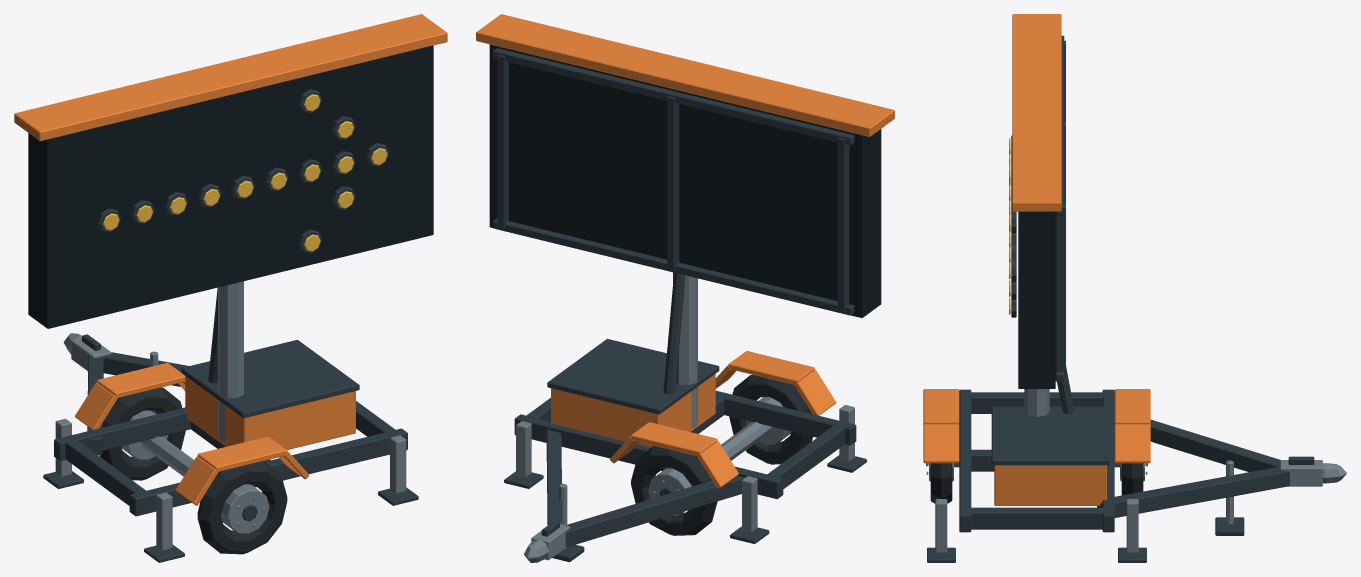
Rendered from b02_portable_arrow_message_board.glb.
The picture shows the model from 3 angles, left to right: view 1: azimuth 30°, elevation 25°; view 2: azimuth 150°, elevation 25°; view 3: azimuth 270°, elevation 25°; orthographic projection. The views are drawn at different scales.
Parts seen in each view (by area): view 1: b02_portable_arrow_message_board; view 2: b02_portable_arrow_message_board; view 3: b02_portable_arrow_message_board.
Part boxes in pixels (left/top/right/bottom): b02_portable_arrow_message_board: left=14, top=14, right=447, bottom=562; b02_portable_arrow_message_board: left=476, top=14, right=894, bottom=562; b02_portable_arrow_message_board: left=923, top=14, right=1346, bottom=562.
Bounding box in the file's own units: 2.62 × 2.67 × 2.48.
